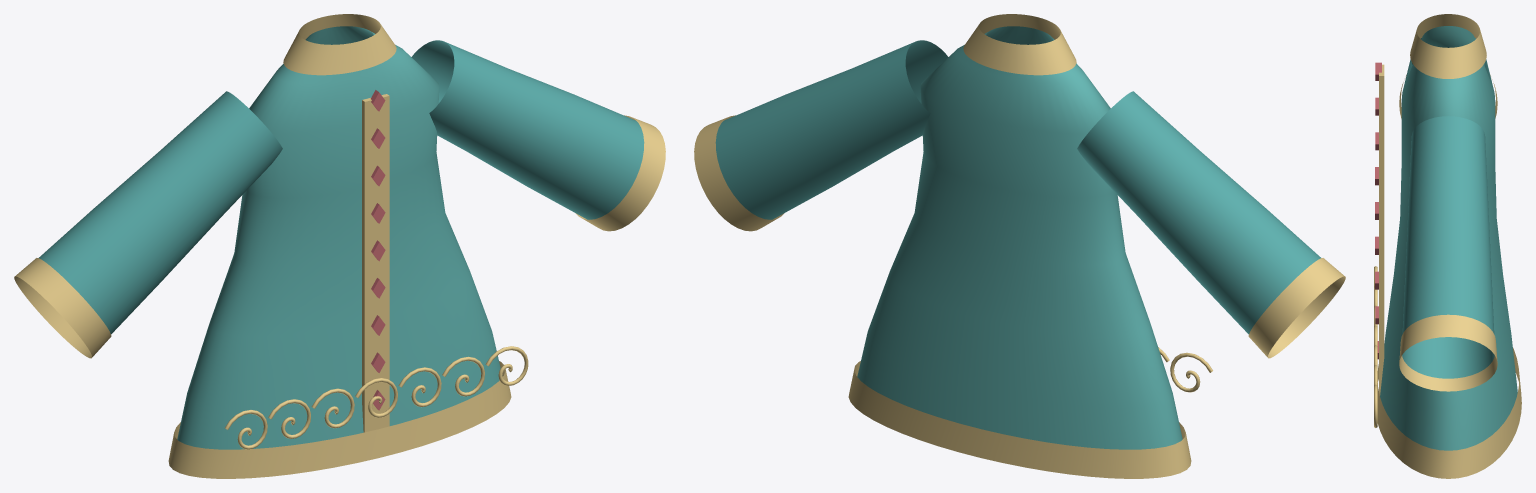
File: shapan.glb
The picture shows the model from 3 angles, left to right: view 1: azimuth 30°, elevation 25°; view 2: azimuth 150°, elevation 25°; view 3: azimuth 270°, elevation 25°; orthographic projection. The views are drawn at different scales.
Visible parts, largest first — view 1: robe, sleeve (×2), hem, placket, cuff (×2), collar; view 2: robe, sleeve (×2), hem, cuff (×2), collar; view 3: sleeve, robe, hem, cuff, collar, placket.
Part boxes in pixels (<box>): robe: <box>177,26,500,449</box>; sleeve (×2): <box>39,40,644,334</box>; hem: <box>168,361,511,478</box>; placket: <box>362,94,389,432</box>; cuff (×2): <box>14,115,665,358</box>; collar: <box>283,14,396,75</box>; robe: <box>857,26,1182,449</box>; sleeve (×2): <box>715,40,1320,334</box>; hem: <box>848,361,1191,478</box>; cuff (×2): <box>694,115,1345,358</box>; collar: <box>963,14,1076,75</box>; sleeve: <box>1402,116,1494,378</box>; robe: <box>1380,26,1517,450</box>; hem: <box>1377,348,1521,478</box>; cuff: <box>1399,314,1497,391</box>; collar: <box>1410,14,1486,78</box>; placket: <box>1379,64,1384,395</box>.
Size of the model in its own units: 4.07 by 2.46 by 0.8854.
